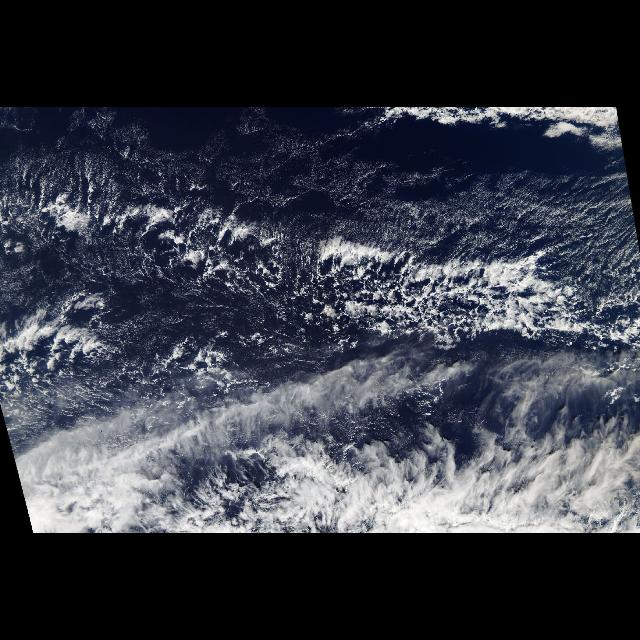Fish: (27, 149, 636, 353)
Gravel: (1, 160, 635, 380)
Sugar: (30, 127, 634, 257)
